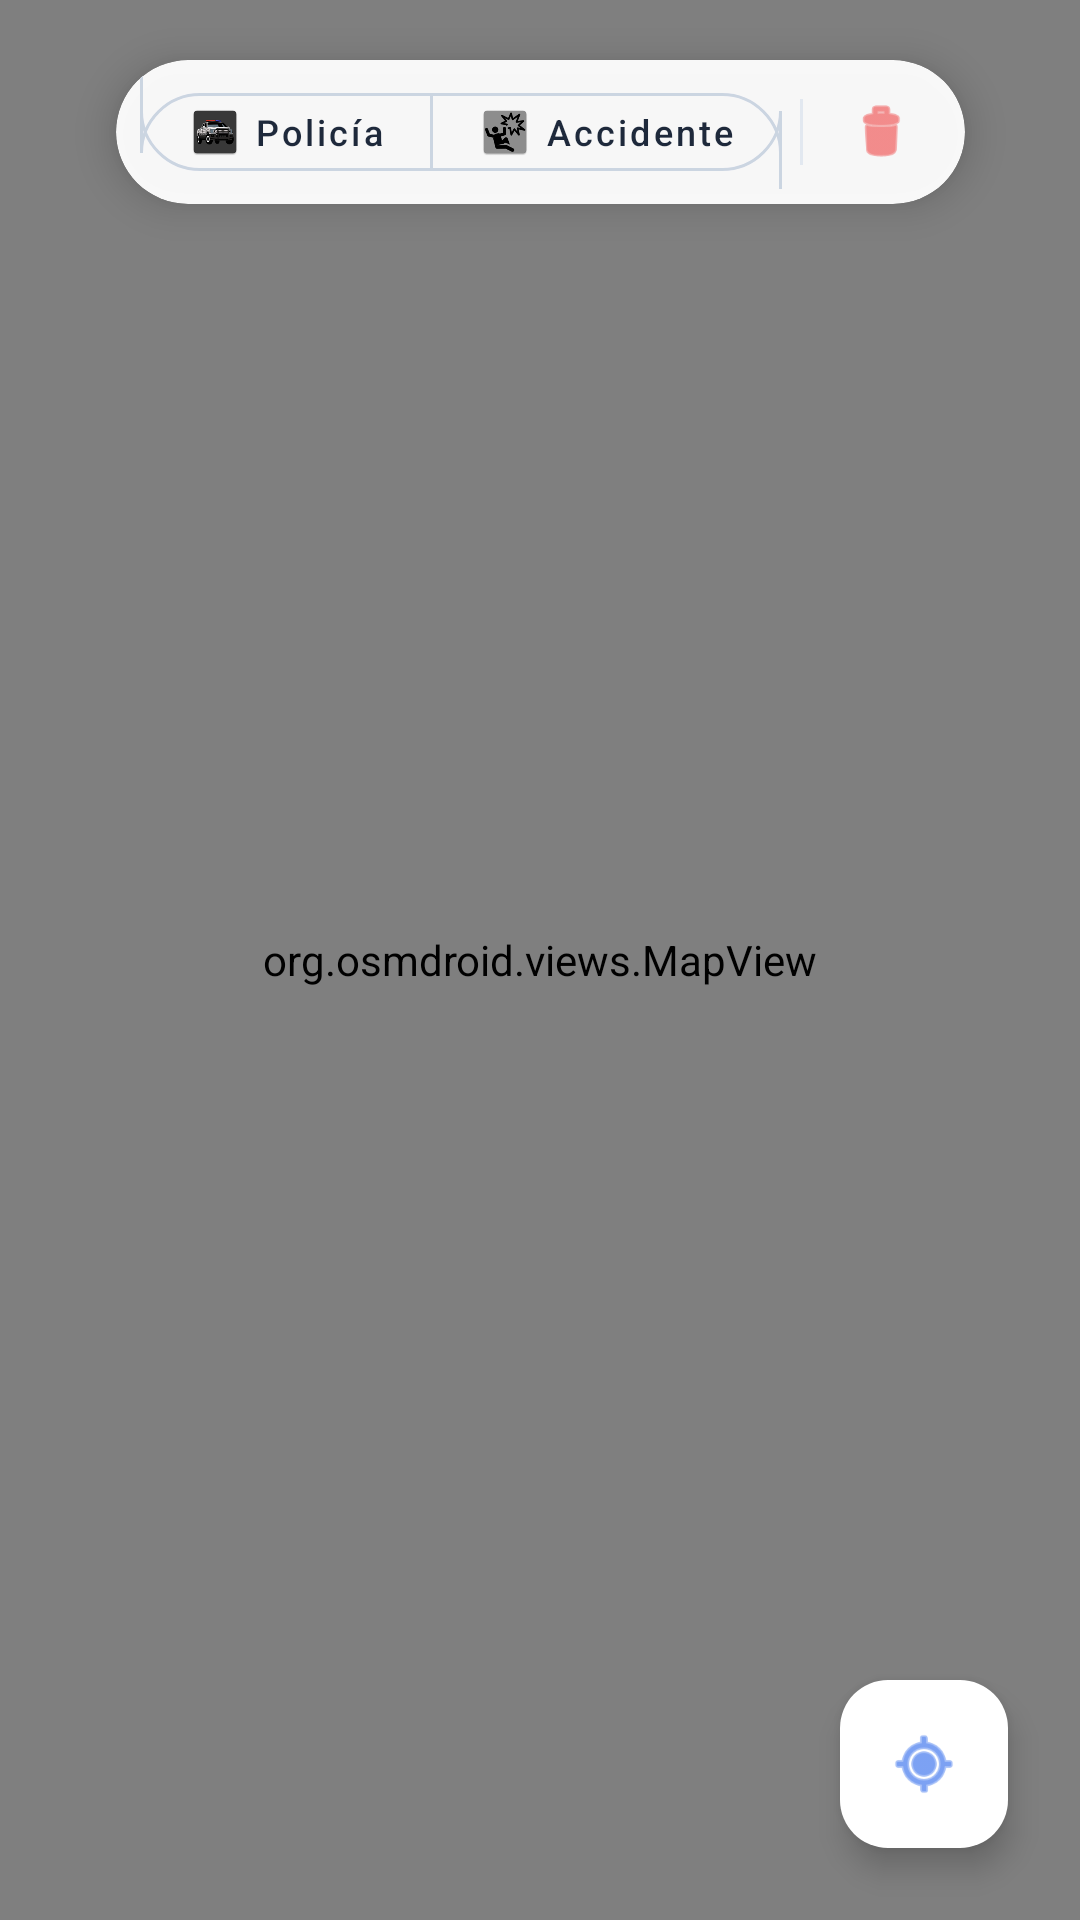

Named icons in this screenshot (1080 x 1920) and their bounding boxes, (x1, y1, x2, y2):
Limpiar mapa: (863, 105, 900, 157)
Mi Ubicación: (840, 1680, 1008, 1848)
